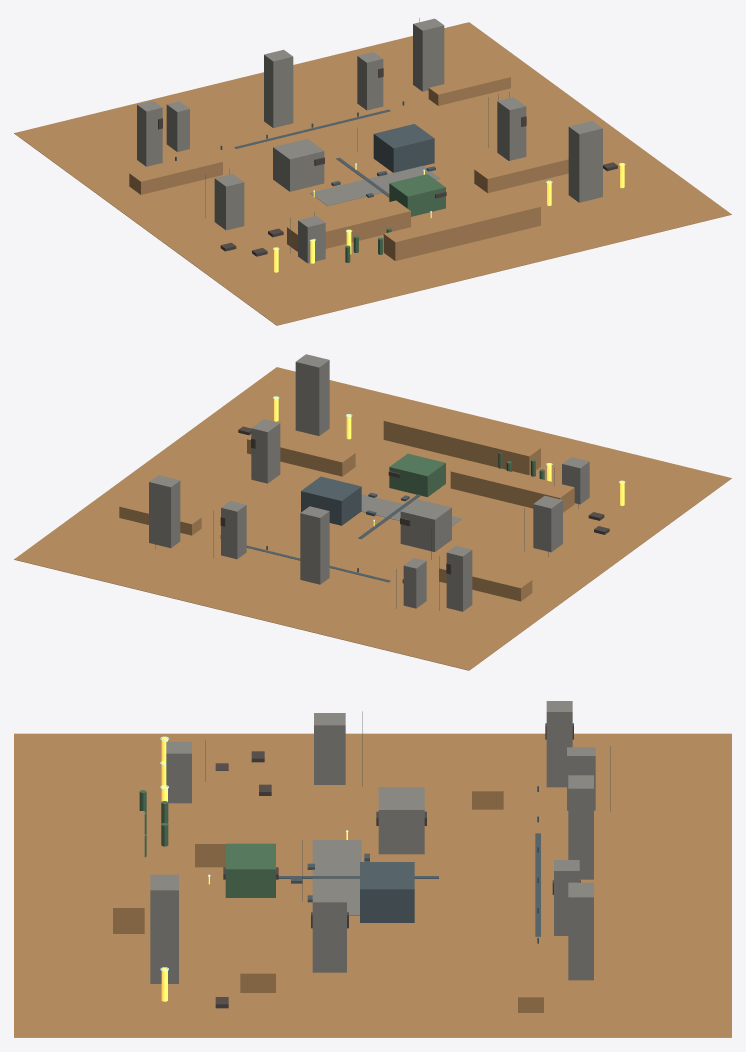
The model's file is caligo_surface_ruins.gltf.
The picture shows the model from 3 angles, top to bottom: view 1: azimuth 30°, elevation 25°; view 2: azimuth 150°, elevation 25°; view 3: azimuth 270°, elevation 25°; orthographic projection. The views are drawn at different scales.
Visible parts, largest first — view 1: surface_terrain, dune_ridge_04, dune_ridge_01, colonial_skyline_08_shell, dune_ridge_02, magnetodynamic_research_hall_shell, dune_ridge_00, planetary_sciences_admin_shell, colonial_skyline_02_shell, colonial_skyline_04_shell, electrorganic_ecology_institute_shell, colonial_skyline_06_shell (+7 smaller); view 2: surface_terrain, dune_ridge_04, dune_ridge_01, colonial_skyline_08_shell, planetary_sciences_admin_shell, colonial_skyline_02_shell, colonial_skyline_04_shell, dune_ridge_02, magnetodynamic_research_hall_shell, electrorganic_ecology_institute_shell, colonial_skyline_06_shell, colonial_skyline_00_shell (+7 smaller); view 3: surface_terrain, dune_ridge_04, dune_ridge_01, magnetodynamic_research_hall_shell, planetary_sciences_admin_shell, colonial_skyline_08_shell, dune_ridge_02, colonial_skyline_06_shell, electrorganic_ecology_institute_shell, central_concourse, colonial_skyline_04_shell, colonial_skyline_02_shell (+8 smaller).
Boxes of the visible parts, box(x1,y1,x2,y2) form: surface_terrain: box(14, 22, 731, 325); dune_ridge_04: box(383, 198, 540, 260); dune_ridge_01: box(287, 200, 410, 251); colonial_skyline_08_shell: box(568, 121, 602, 202); dune_ridge_02: box(474, 146, 568, 193); magnetodynamic_research_hall_shell: box(373, 124, 434, 172); dune_ridge_00: box(129, 153, 222, 194); planetary_sciences_admin_shell: box(273, 139, 324, 191); colonial_skyline_02_shell: box(264, 49, 293, 127); colonial_skyline_04_shell: box(413, 18, 444, 91); electrorganic_ecology_institute_shell: box(389, 174, 445, 216); colonial_skyline_06_shell: box(497, 97, 526, 160); surface_terrain: box(14, 367, 731, 670); dune_ridge_04: box(383, 412, 540, 475); dune_ridge_01: box(450, 460, 574, 512); colonial_skyline_08_shell: box(295, 354, 329, 435); planetary_sciences_admin_shell: box(400, 499, 451, 551); colonial_skyline_02_shell: box(300, 506, 329, 584); colonial_skyline_04_shell: box(149, 475, 180, 548); dune_ridge_02: box(247, 434, 355, 476); magnetodynamic_research_hall_shell: box(301, 476, 361, 525); electrorganic_ecology_institute_shell: box(389, 453, 445, 497); colonial_skyline_06_shell: box(251, 419, 280, 483); colonial_skyline_00_shell: box(446, 545, 472, 611); surface_terrain: box(14, 733, 731, 1037); dune_ridge_04: box(113, 811, 144, 933); dune_ridge_01: box(195, 771, 234, 867); magnetodynamic_research_hall_shell: box(360, 862, 414, 922); planetary_sciences_admin_shell: box(378, 787, 424, 854); colonial_skyline_08_shell: box(150, 874, 178, 983); dune_ridge_02: box(240, 910, 275, 992); colonial_skyline_06_shell: box(312, 891, 346, 972); electrorganic_ecology_institute_shell: box(225, 843, 275, 897); central_concourse: box(312, 840, 361, 915); colonial_skyline_04_shell: box(568, 882, 593, 980); colonial_skyline_02_shell: box(568, 775, 593, 879).
Size of the model in its own units: 500 by 72.52 by 500.
